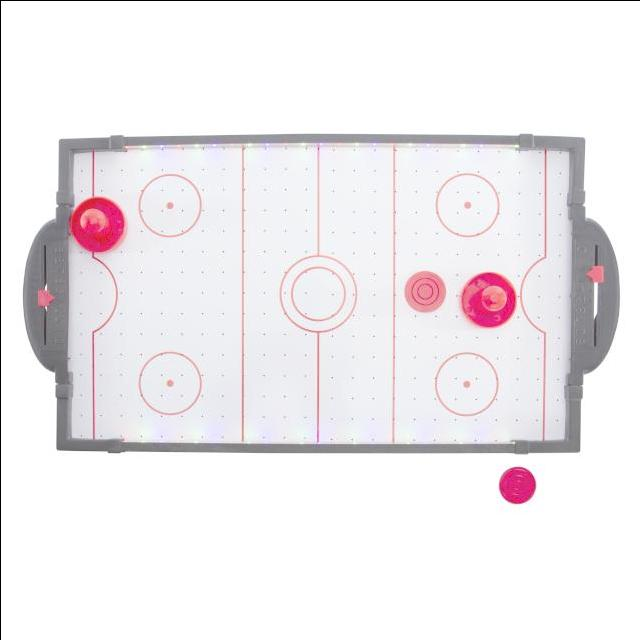chip: (497, 463, 535, 502), (407, 271, 442, 310)
